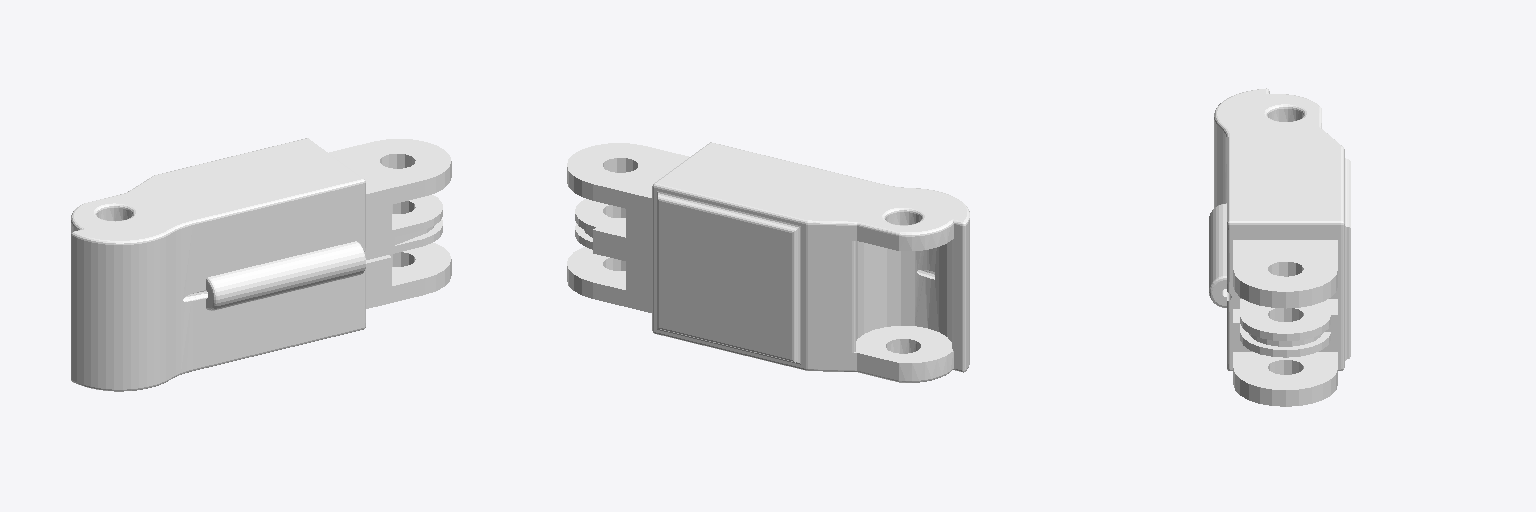
Rendered from gripper_left_proximal_link.obj.
3 views of the same model, side by side, from view 1: azimuth 30°, elevation 25°; view 2: azimuth 150°, elevation 25°; view 3: azimuth 270°, elevation 25° (orthographic).
Parts seen in each view (by area): view 1: shape0.006; view 2: shape0.006; view 3: shape0.006.
Part boxes in pixels (bbox=[...]): shape0.006: bbox=[71, 138, 451, 391]; shape0.006: bbox=[567, 142, 969, 382]; shape0.006: bbox=[1209, 88, 1350, 406].
Size of the model in its own units: 0.0677 by 0.0254 by 0.0217.